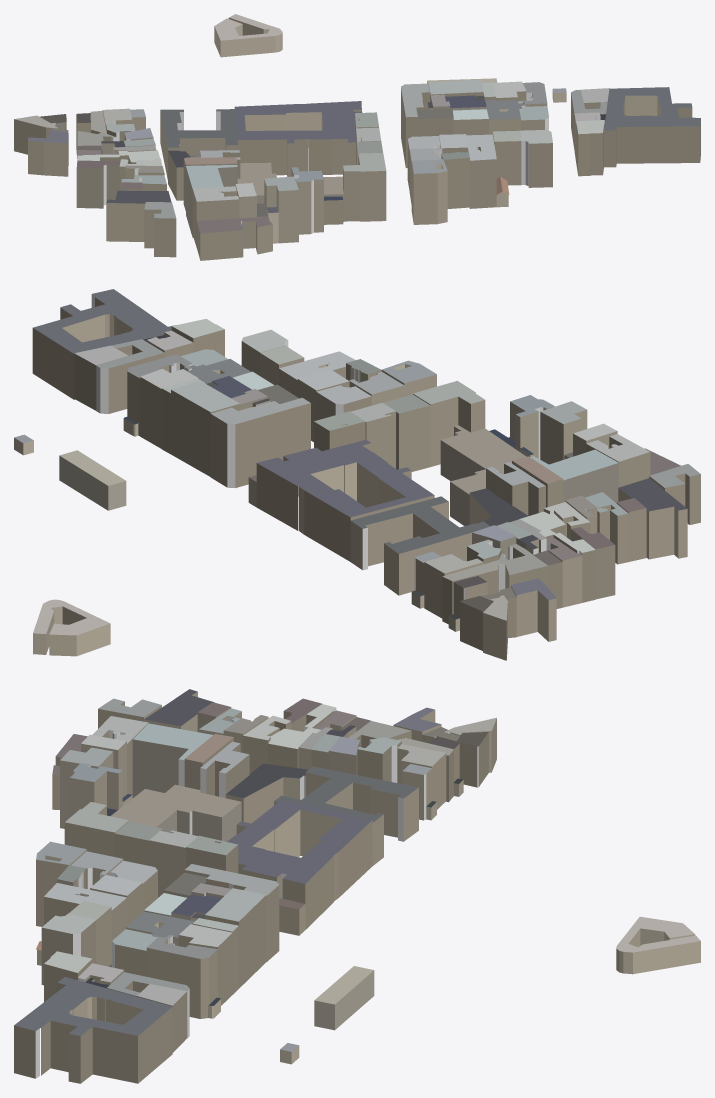
The picture shows the model from 3 angles, top to bottom: view 1: azimuth 30°, elevation 25°; view 2: azimuth 150°, elevation 25°; view 3: azimuth 270°, elevation 25°; orthographic projection. The views are drawn at different scales.
Visible parts, largest first — view 1: tuile; view 2: tuile; view 3: tuile.
Boxes of the visible parts, bbox=[...] form: tuile: bbox=[14, 14, 700, 260]; tuile: bbox=[14, 289, 700, 660]; tuile: bbox=[14, 689, 700, 1083].
Size of the model in its own units: 281 by 33.08 by 237.
